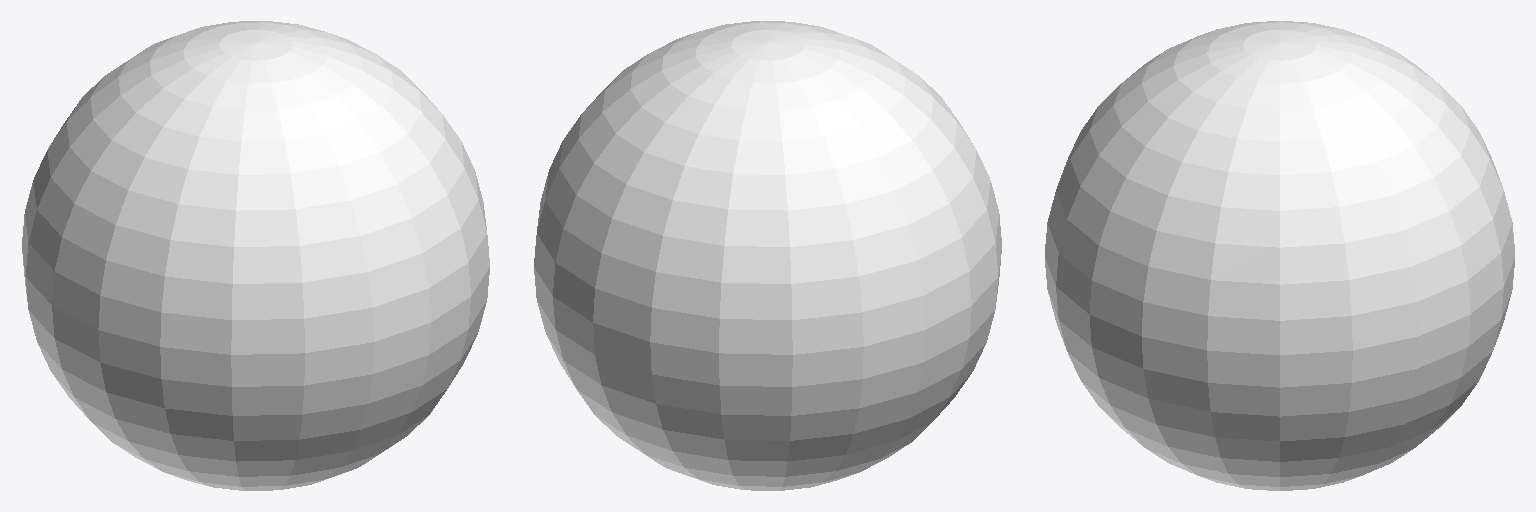
File: exit.obj
The picture shows the model from 3 angles: view 1: azimuth 30°, elevation 25°; view 2: azimuth 150°, elevation 25°; view 3: azimuth 270°, elevation 25°; orthographic projection.
Visible parts, largest first — view 1: pSphere1; view 2: pSphere1; view 3: pSphere1.
Boxes of the visible parts, x1=… form: pSphere1: x1=22, y1=21, x2=489, y2=490; pSphere1: x1=534, y1=21, x2=1001, y2=490; pSphere1: x1=1045, y1=21, x2=1514, y2=490.
Size of the model in its own units: 0.6 by 0.6 by 0.6.